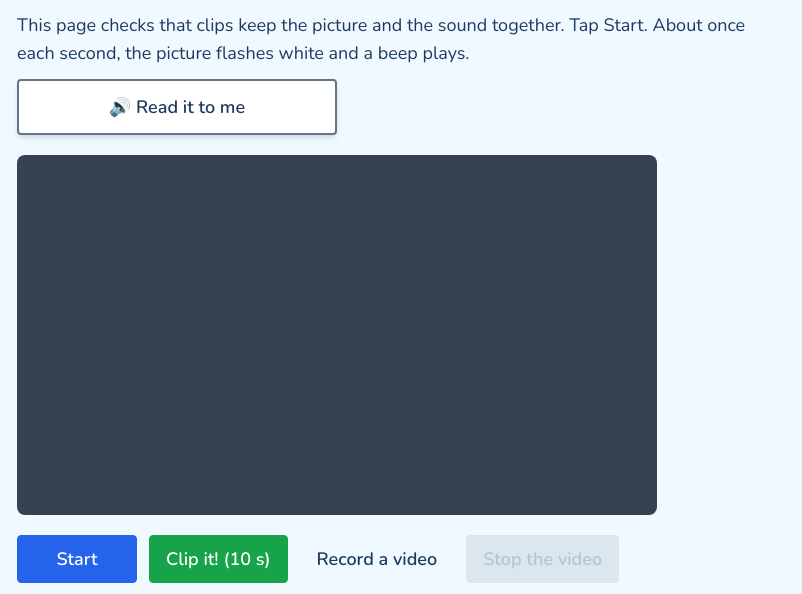
Test: ClipsLab › starts the sound inside the Start tap, and flashes the frame in the same frame that starts each beep
The width and height of the screenshot is (802, 594).
Click the button with test id "lab-start": (77, 559) [17,535,137,583]
(page scrolled)
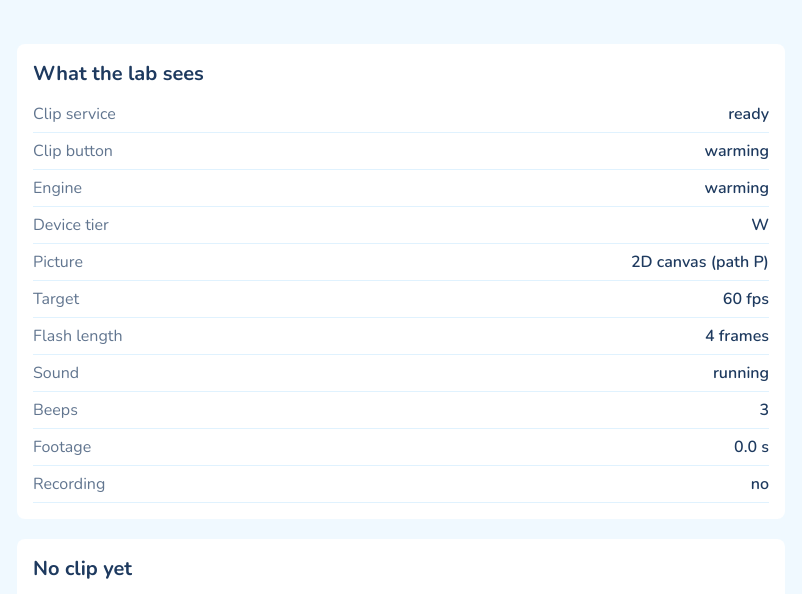
Expected: the text "4 frames" is shown, [705,324,769,348]
